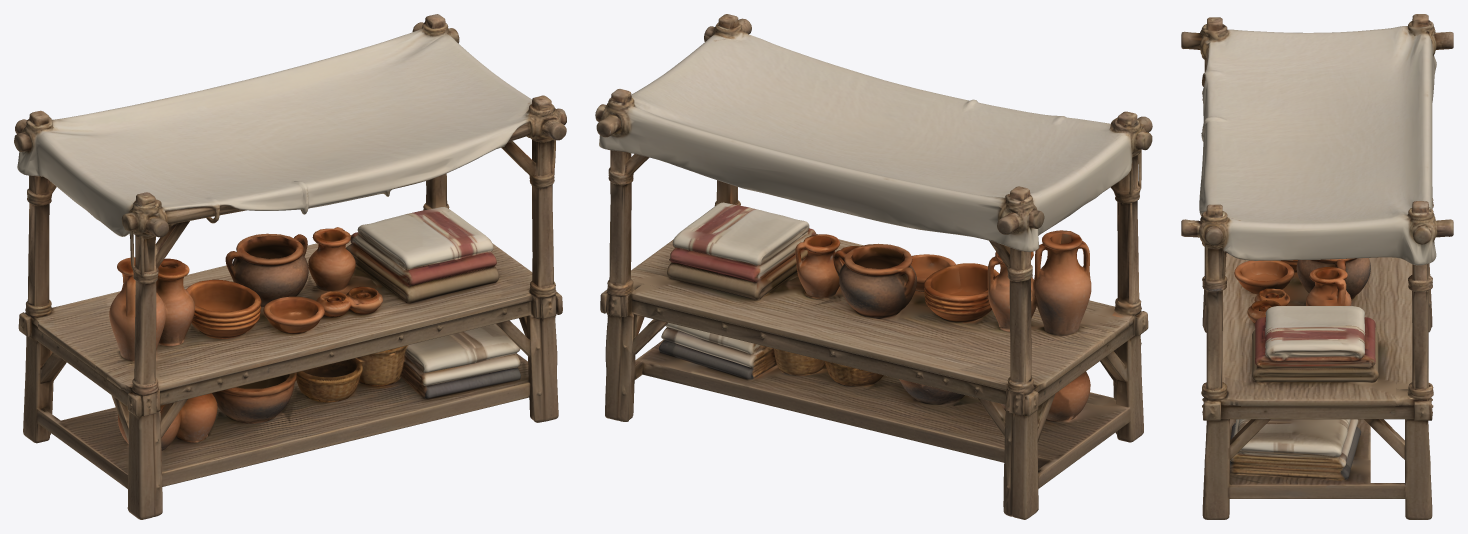
File: Jerusalem_Market_compact_2k.glb
3 views of the same model, side by side, from view 1: azimuth 30°, elevation 25°; view 2: azimuth 150°, elevation 25°; view 3: azimuth 270°, elevation 25° (orthographic). The views are drawn at different scales.
Parts seen in each view (by area): view 1: Jerusalem_Market; view 2: Jerusalem_Market; view 3: Jerusalem_Market.
Part boxes in pixels (<box>): Jerusalem_Market: <box>14,14,566,519</box>; Jerusalem_Market: <box>595,14,1152,519</box>; Jerusalem_Market: <box>1181,14,1453,519</box>.
Size of the model in its own units: 3.47 by 2.45 by 1.94.
Materials: 1 (1 with a texture image).
